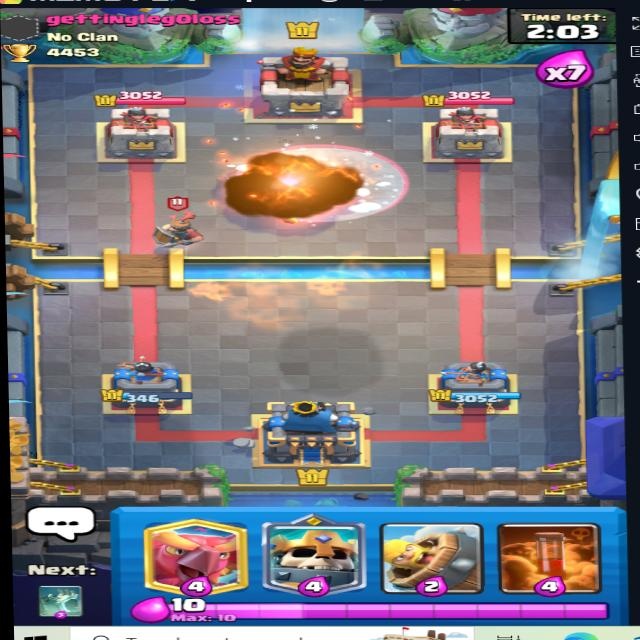freeze: (235, 134, 412, 222)
royal-recruits: (153, 200, 211, 252)
